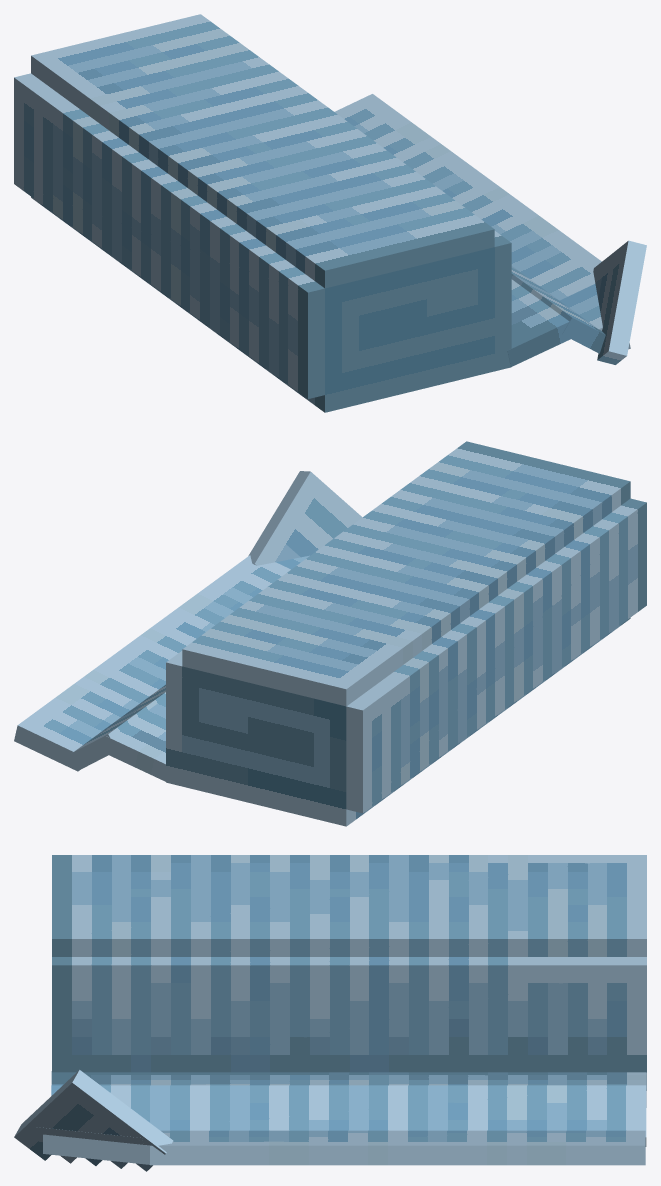
Rendered from icon_silkfabric.gltf.
3 renders of one model, top to bottom at view 1: azimuth 30°, elevation 25°; view 2: azimuth 150°, elevation 25°; view 3: azimuth 270°, elevation 25°, orthographic. The views are drawn at different scales.
Parts seen in each view (by area): view 1: silk-Local, side-03-Local, curly$$corner 02 (1)-Local, side-01-Local, side-02$$(1)-Local; view 2: silk-Local, side-03-Local, curly$$corner 02 (1)-Local, side-01-Local, side-02$$(1)-Local; view 3: silk-Local, side-02$$(1)-Local, side-03-Local, side-01-Local, curly$$corner 02 (1)-Local, side-corner-Local, curly$$corner 01 (1)-Local.
Part boxes in pixels (box(x1,y1,x2,y2)): silk-Local: box(14, 14, 511, 412); side-03-Local: box(335, 94, 602, 330); curly$$corner 02 (1)-Local: box(593, 240, 646, 364); side-01-Local: box(507, 279, 570, 366); side-02$$(1)-Local: box(511, 266, 605, 353); silk-Local: box(166, 441, 646, 826); side-03-Local: box(14, 555, 309, 771); curly$$corner 02 (1)-Local: box(248, 471, 362, 565); side-01-Local: box(103, 698, 165, 781); side-02$$(1)-Local: box(68, 684, 165, 770); silk-Local: box(52, 855, 646, 1090); side-02$$(1)-Local: box(51, 1085, 646, 1146); side-03-Local: box(150, 1130, 645, 1165); side-01-Local: box(51, 1071, 646, 1107); curly$$corner 02 (1)-Local: box(14, 1069, 173, 1171); side-corner-Local: box(43, 1134, 149, 1164); curly$$corner 01 (1)-Local: box(34, 1127, 143, 1144).
Bounding box in the file's own units: 21.31 × 9.13 × 31.92.
7 materials, 7 textured.
